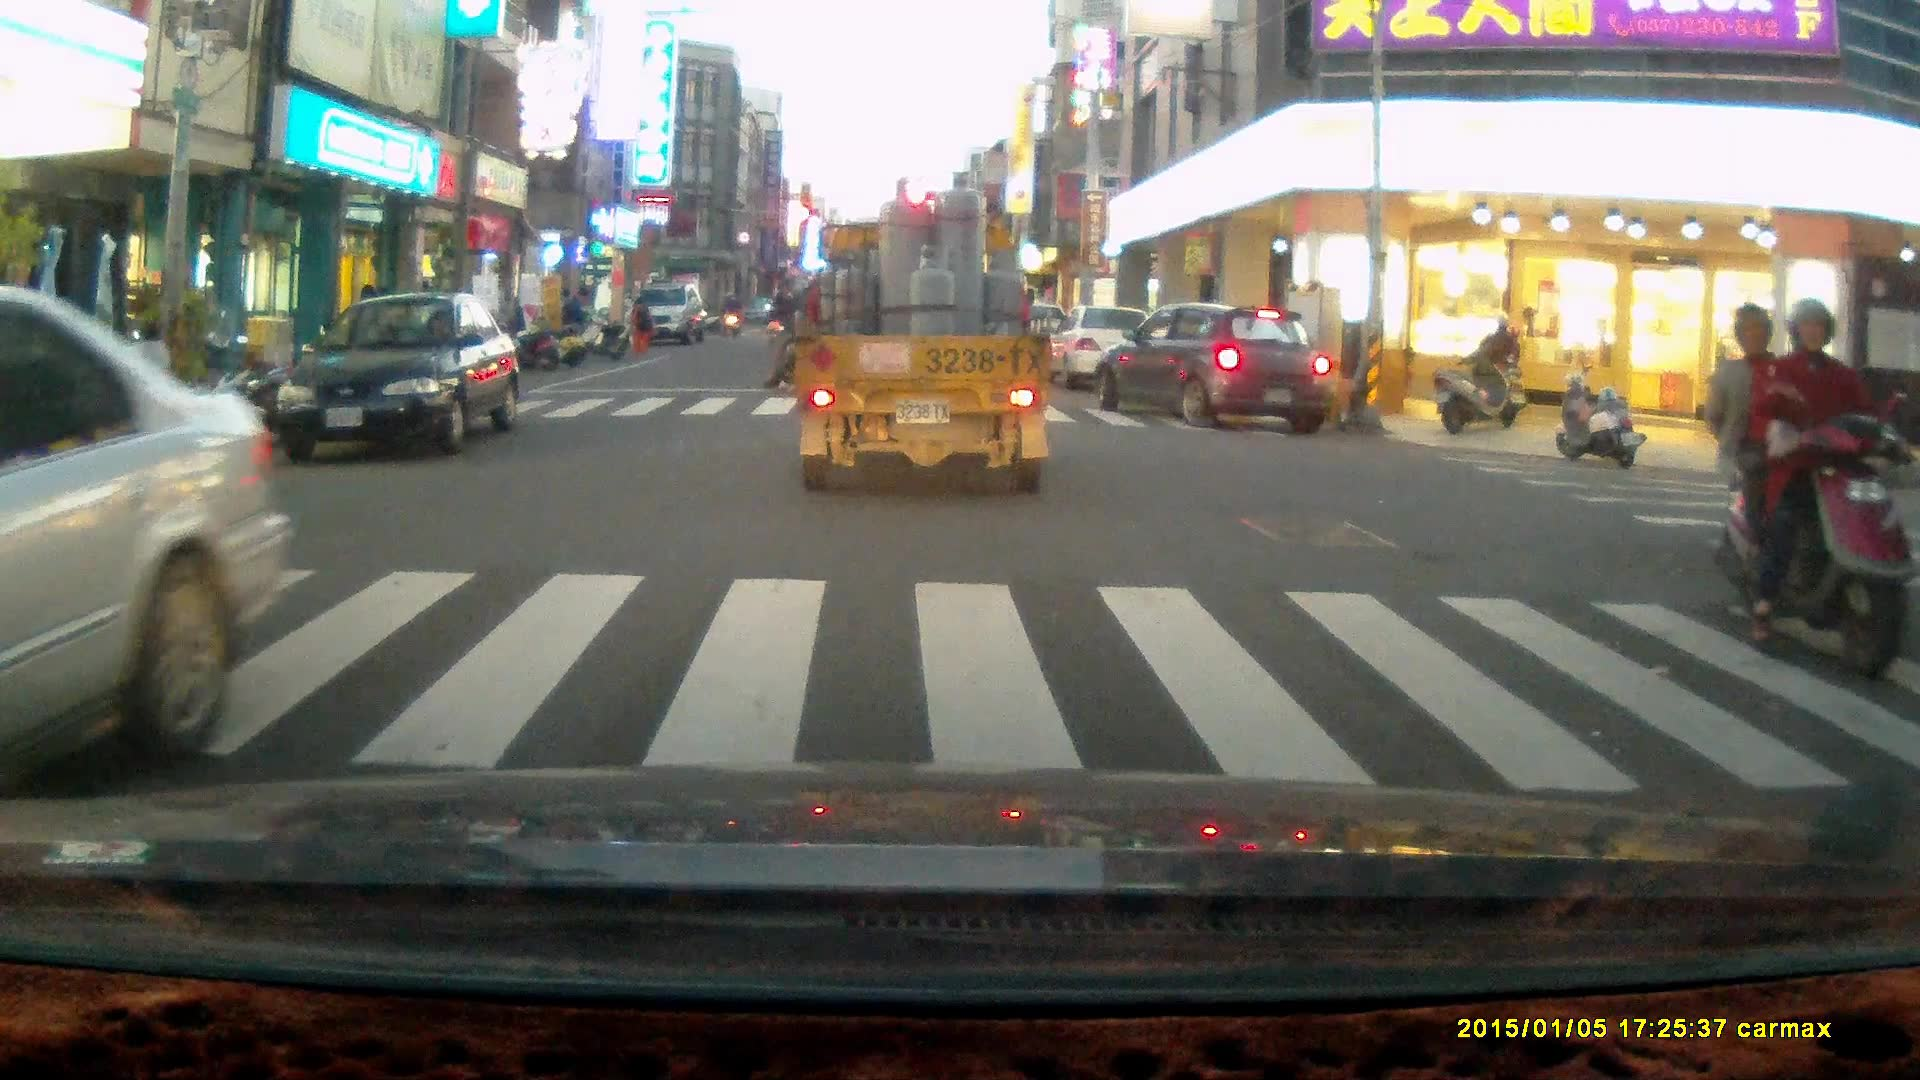pedestrian: (559, 285, 588, 352), (626, 295, 649, 355)
rider: (1707, 293, 1903, 682), (1468, 309, 1526, 428)
vehicle: (1, 300, 286, 806), (790, 167, 1062, 493), (282, 292, 521, 458), (1093, 304, 1329, 431), (1049, 307, 1170, 397), (626, 280, 701, 340)
